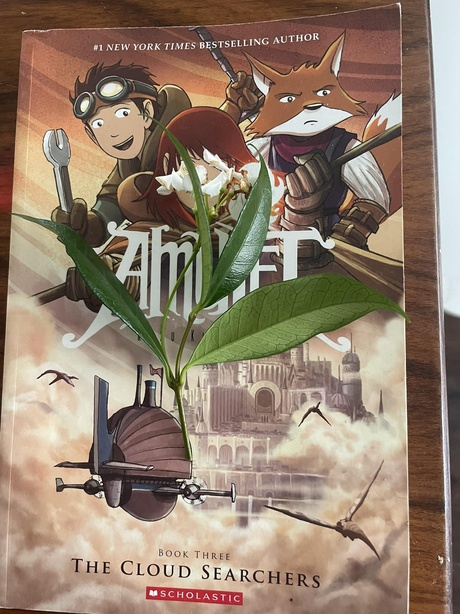leaf: (182, 279, 420, 374), (193, 142, 275, 309)
